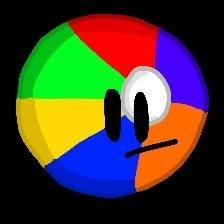Sports-Ball: (14, 16, 214, 202)
